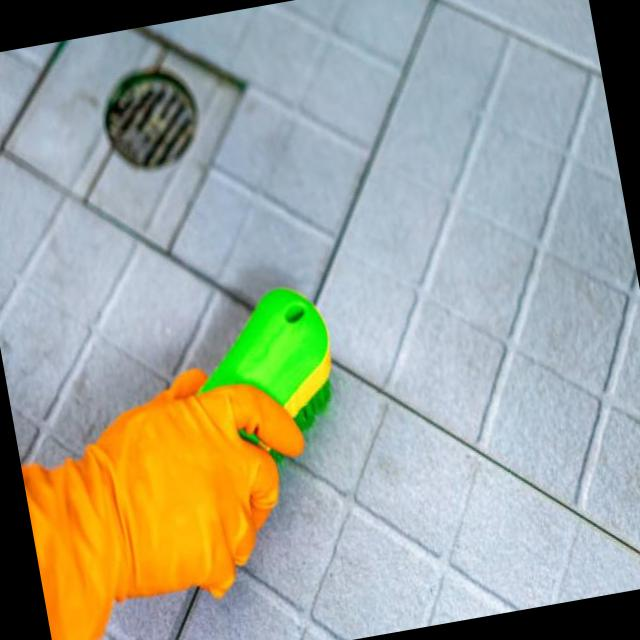Gloves: (8, 344, 335, 640)
